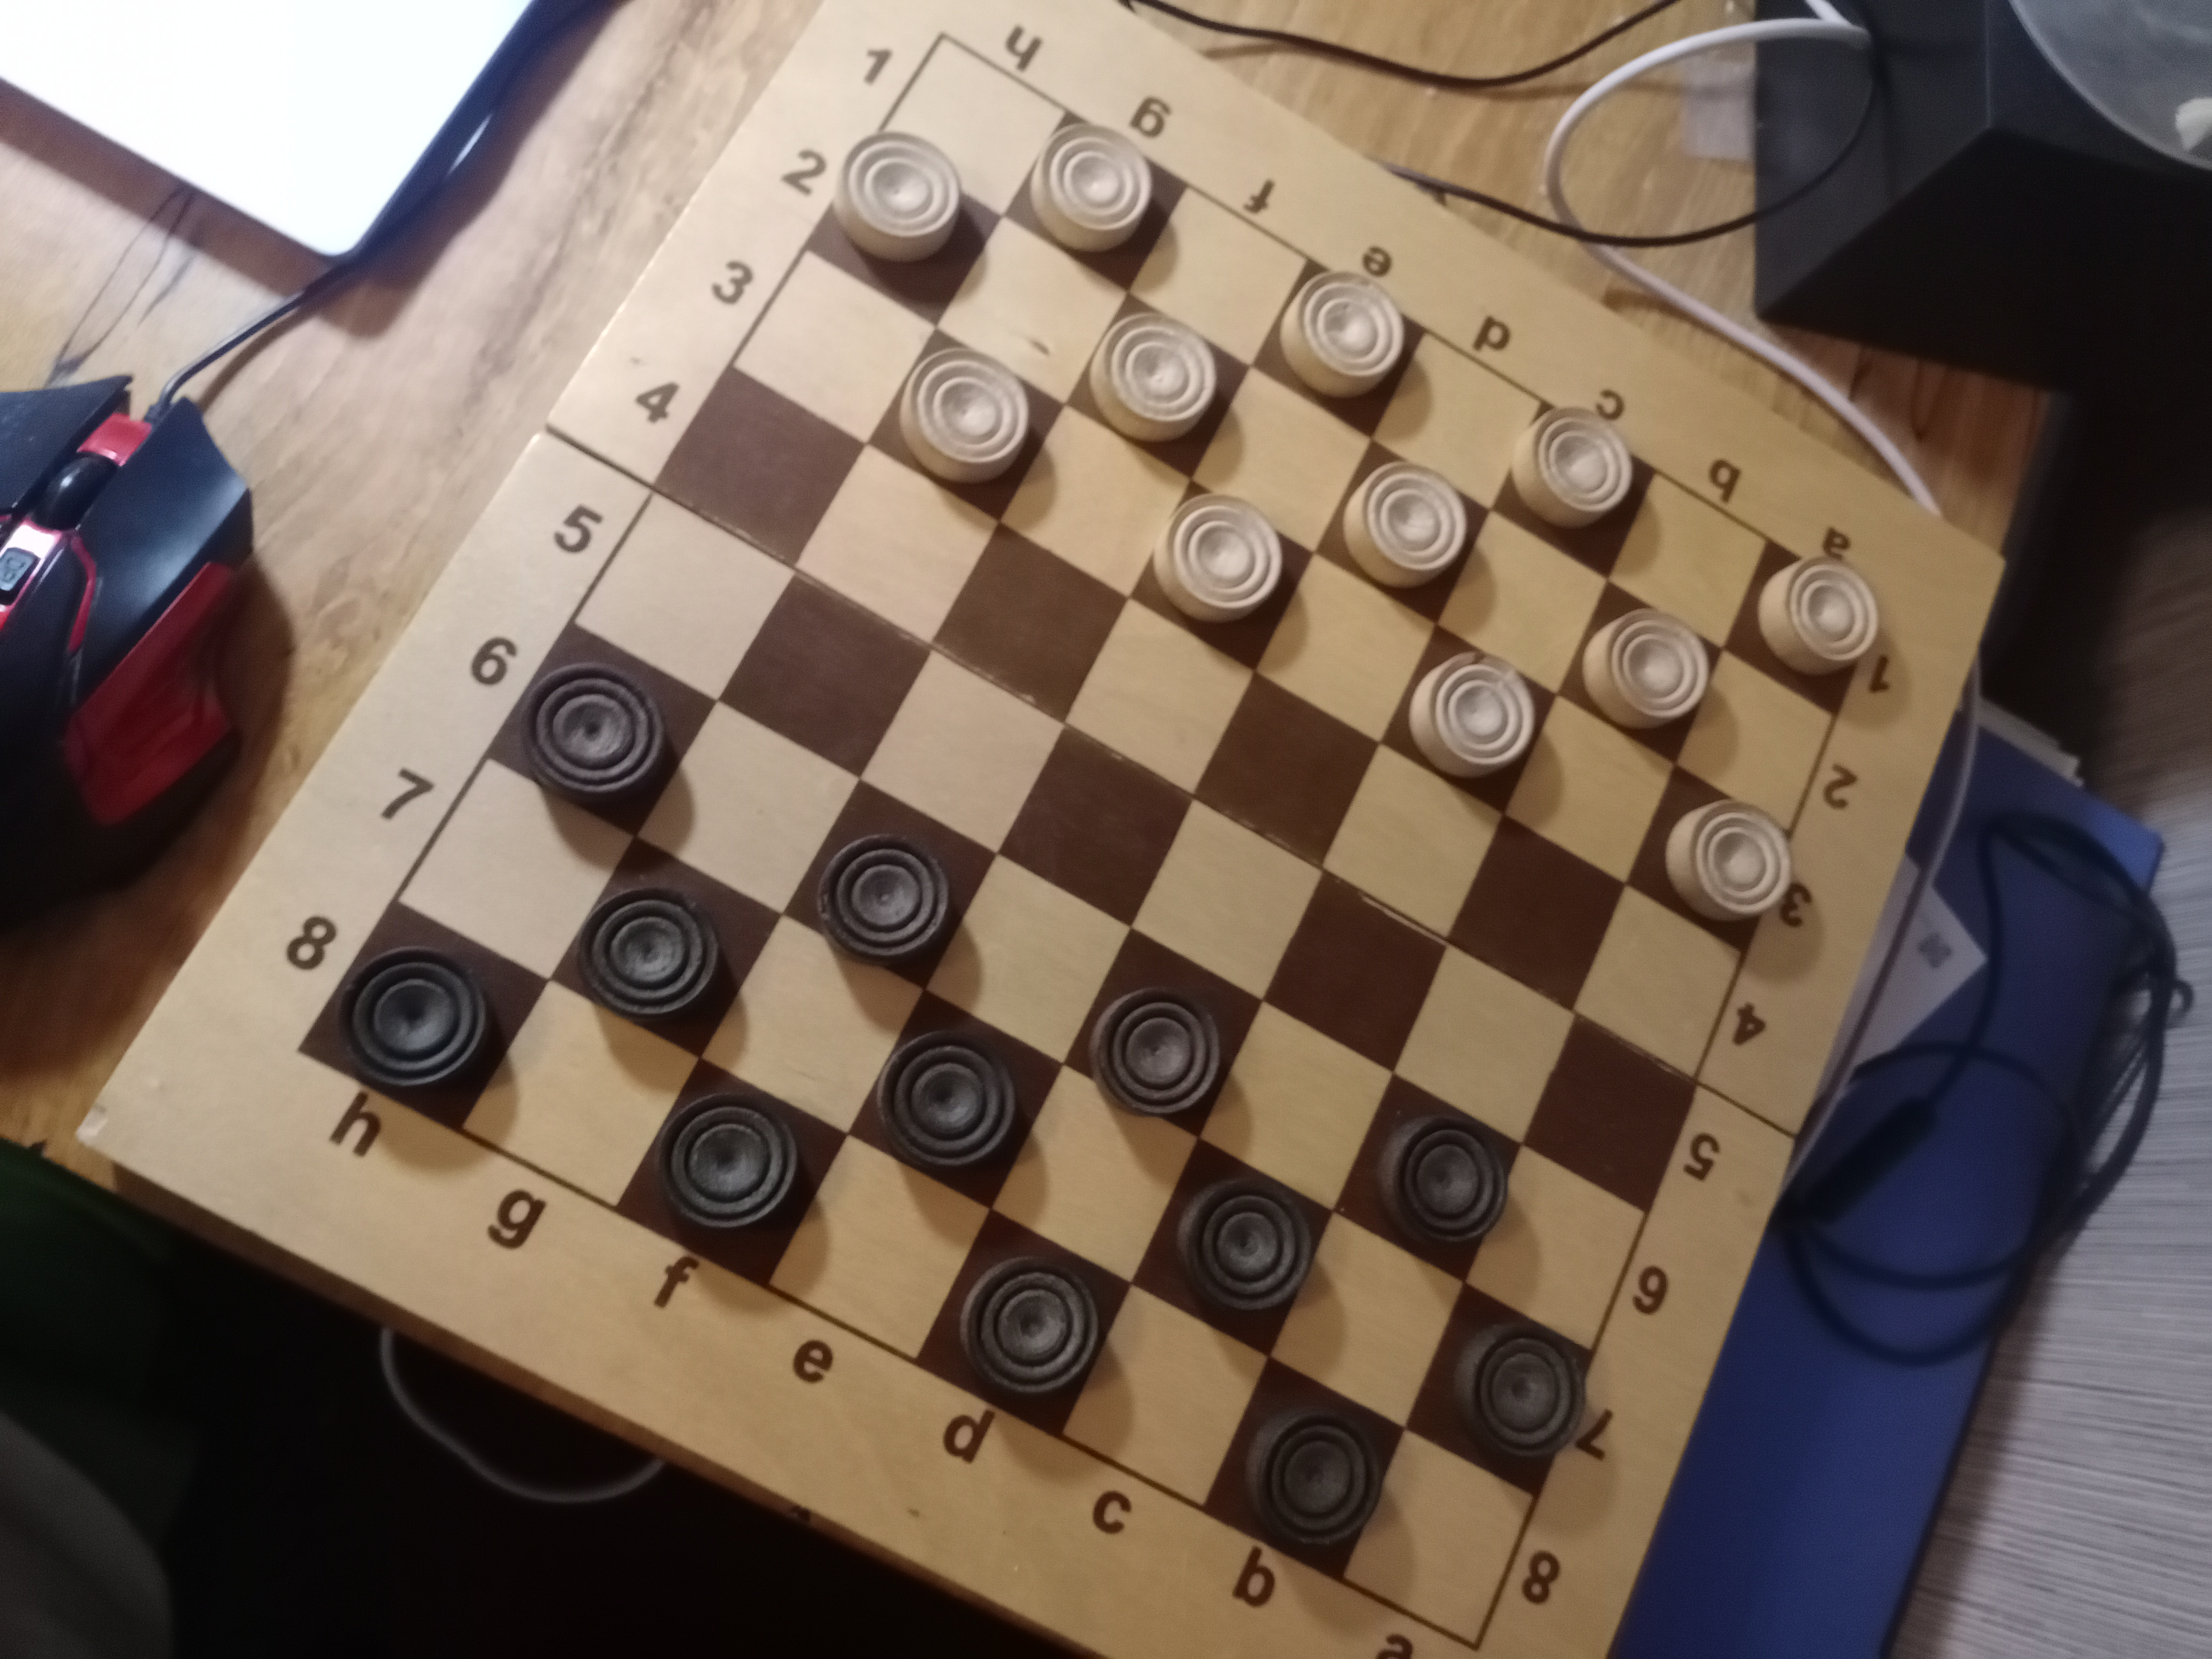Black_Draught: (298, 901, 549, 1133), (618, 1058, 848, 1286), (549, 836, 782, 1058), (486, 622, 719, 833), (916, 1211, 1130, 1438), (848, 992, 1064, 1211), (782, 781, 998, 992), (1202, 1356, 1404, 1579), (1130, 1140, 1334, 1356), (1062, 929, 1263, 1138), (1336, 1073, 1524, 1284), (1406, 1283, 1590, 1497)
